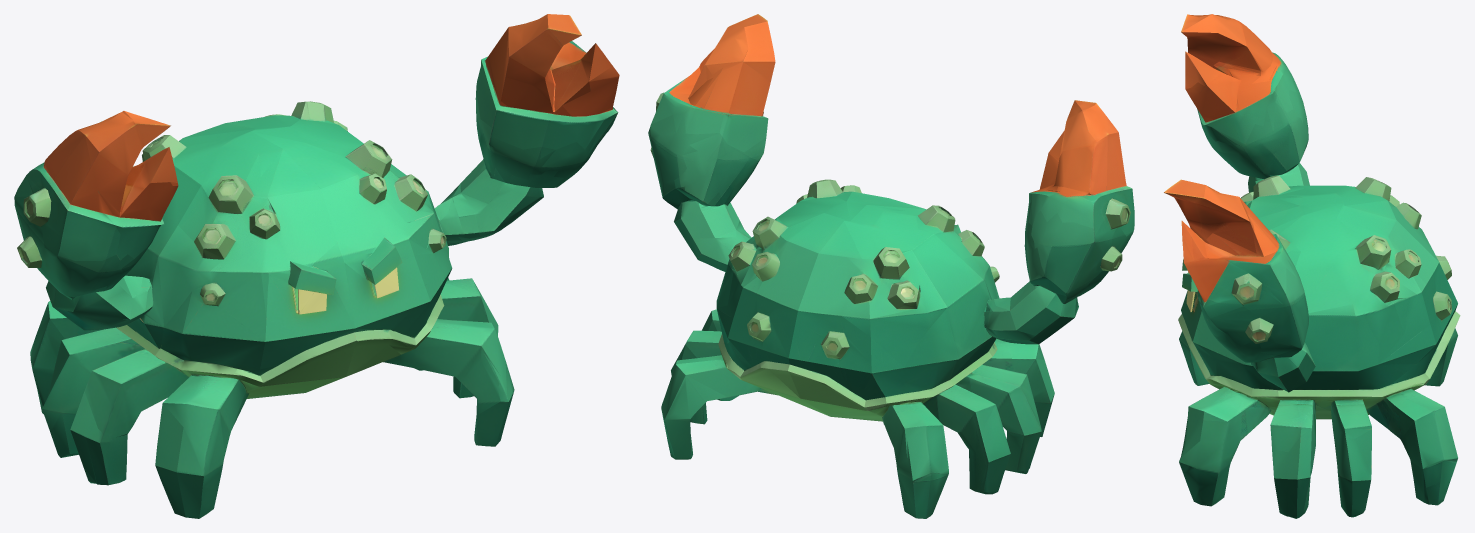
The model's file is crawler.glb.
3 renders of one model, left to right at view 1: azimuth 30°, elevation 25°; view 2: azimuth 150°, elevation 25°; view 3: azimuth 270°, elevation 25°, orthographic. The views are drawn at different scales.
Bounding box in the file's own units: 1.9 × 1.31 × 1.03.
1 material, 1 textured.
